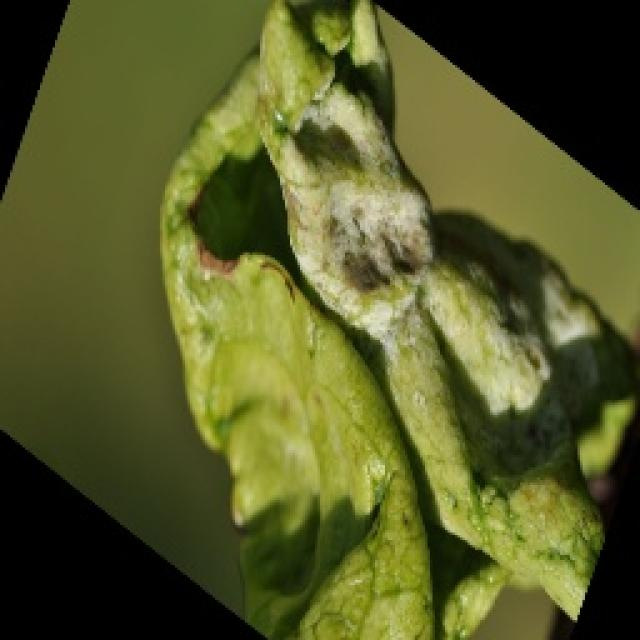peach_leaf_curl: (155, 0, 637, 638)
